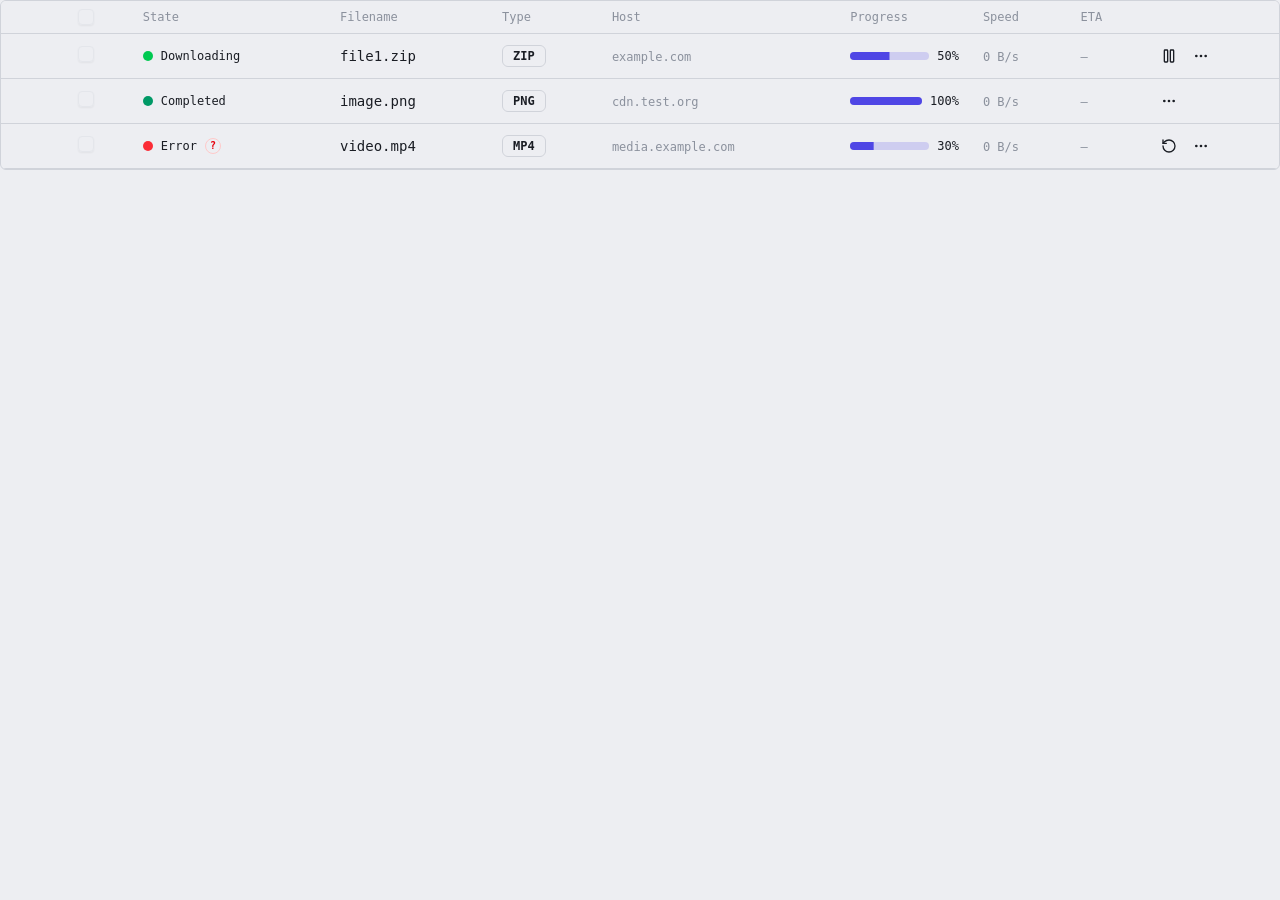
Test: DownloadsTable › should show raw error details without selecting the row when the icon is clicked
The width and height of the screenshot is (1280, 900).
Click the button named "Show download error" at (213, 146), box [205,138,221,154]
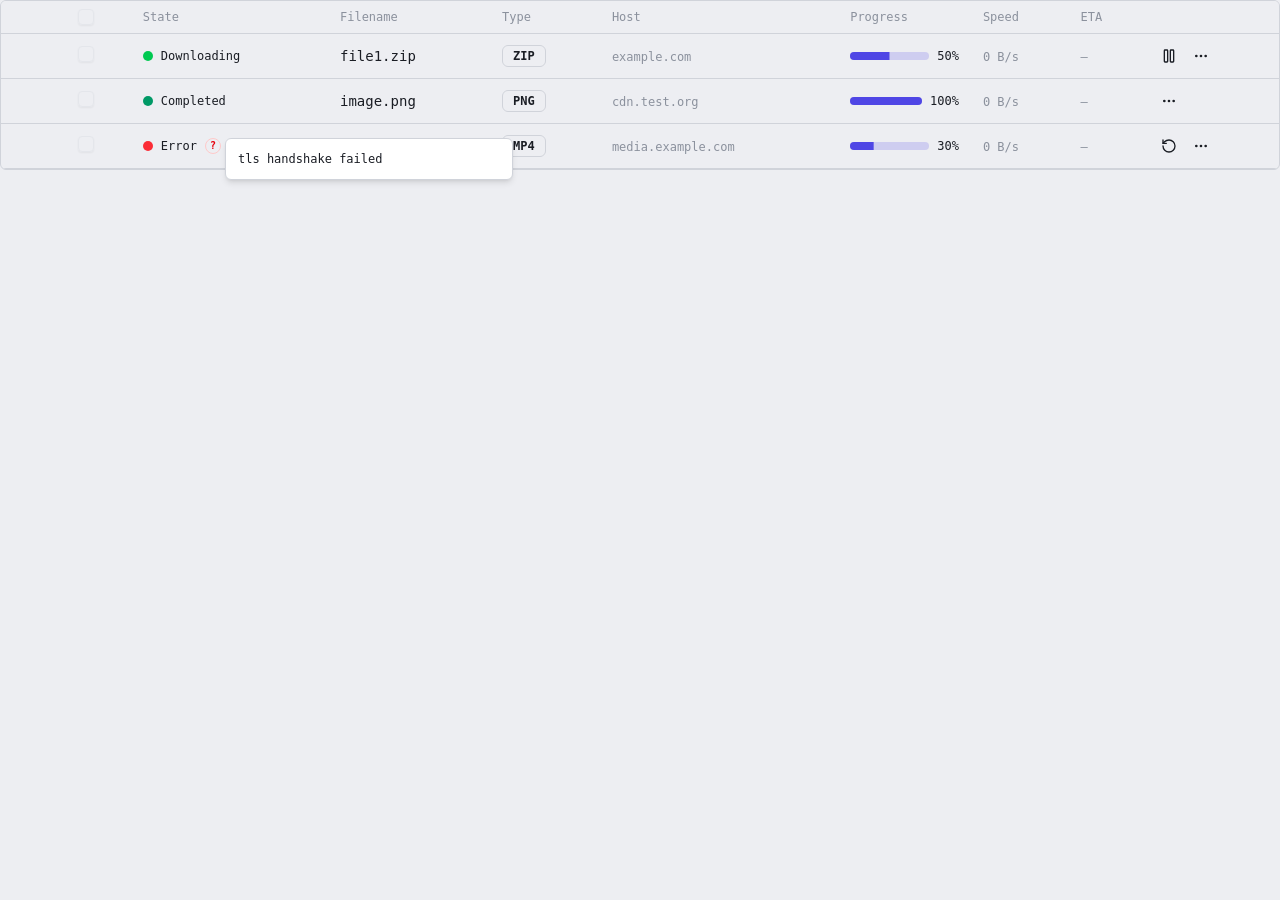
expect the text "tls handshake failed" is shown: met, box [225,138,513,180]
